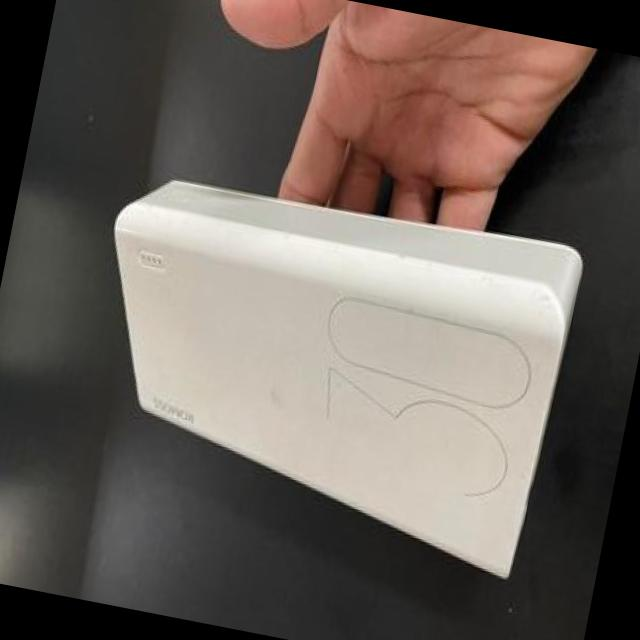power_bank: (59, 142, 596, 588)
